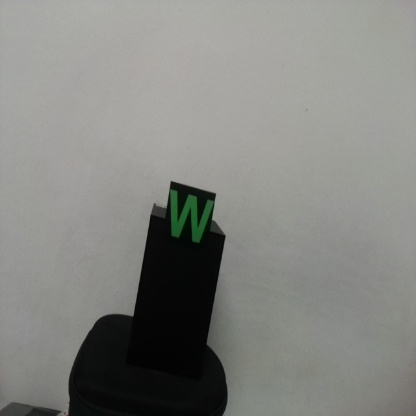id_12: (168, 184, 216, 253)
